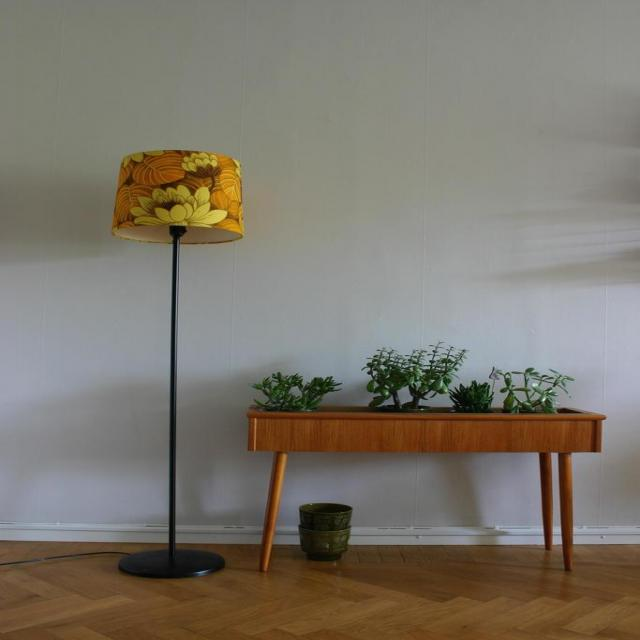desk: (208, 417, 627, 563)
